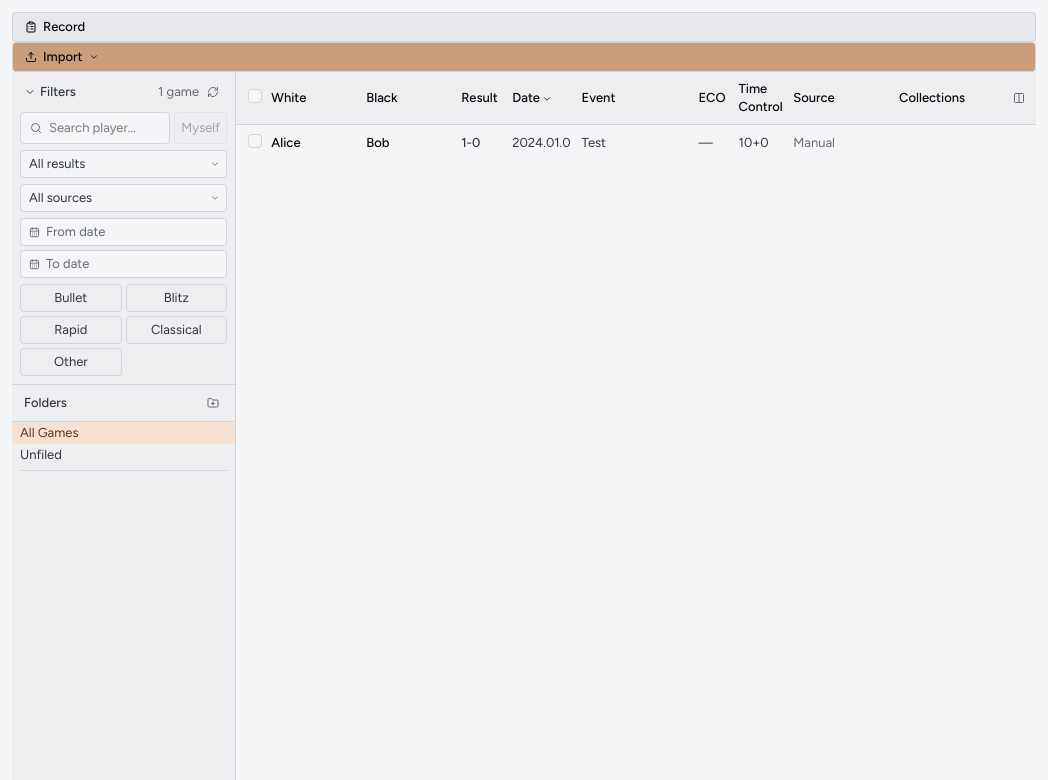
GamesPage › shows bulk action bar when a game row checkbox is selected
What coordinates should you click on to do the following:
click the checkbox next to "White"
I would click on:
 (255, 96)
Its box is top-left (248, 89), bottom-right (262, 103).
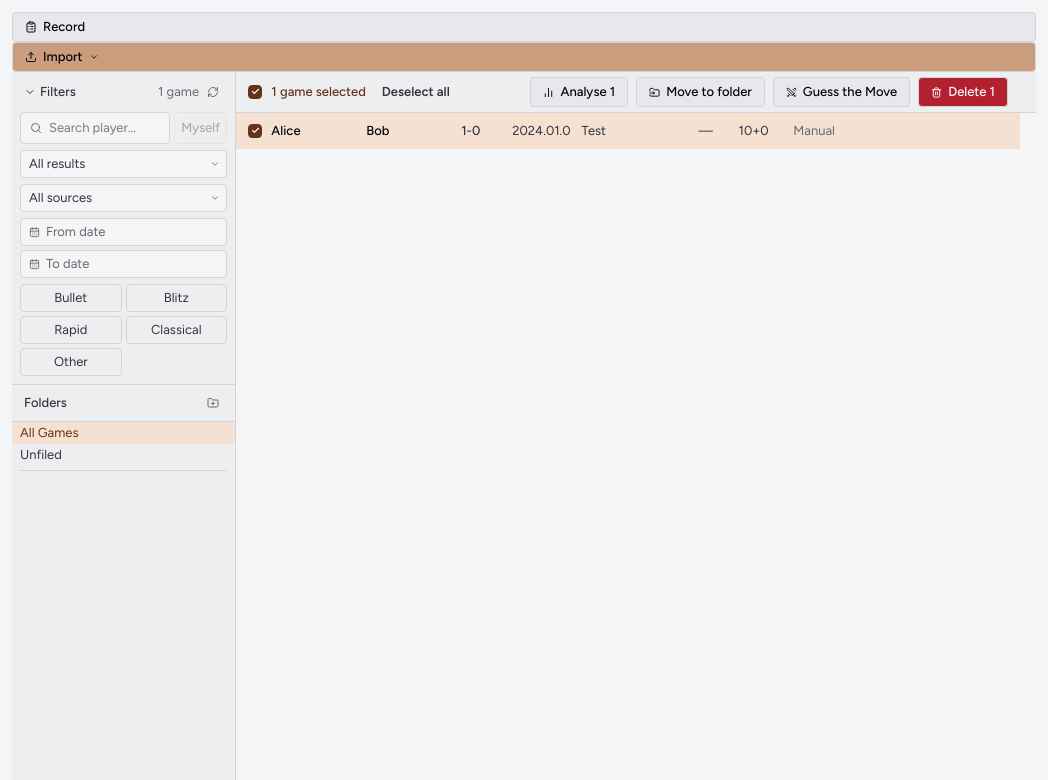
expect the text "1 game selected" is shown: met, box top-left (271, 83), bottom-right (366, 101)
